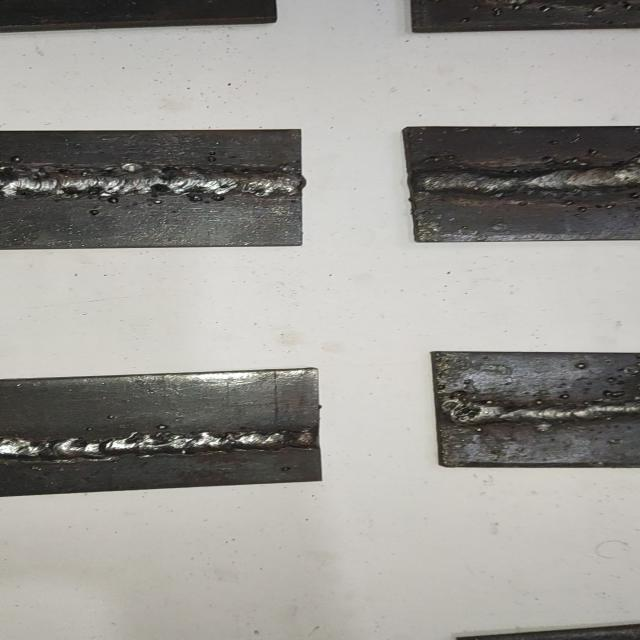Defect: (471, 0, 640, 21), (436, 390, 502, 434), (181, 187, 238, 211), (593, 377, 640, 405)
Welding Line: (0, 426, 318, 464), (0, 165, 300, 203), (414, 157, 640, 191), (440, 389, 640, 427)
Workpiece: (0, 364, 332, 501), (0, 126, 307, 251), (400, 121, 640, 244), (427, 348, 640, 472)
